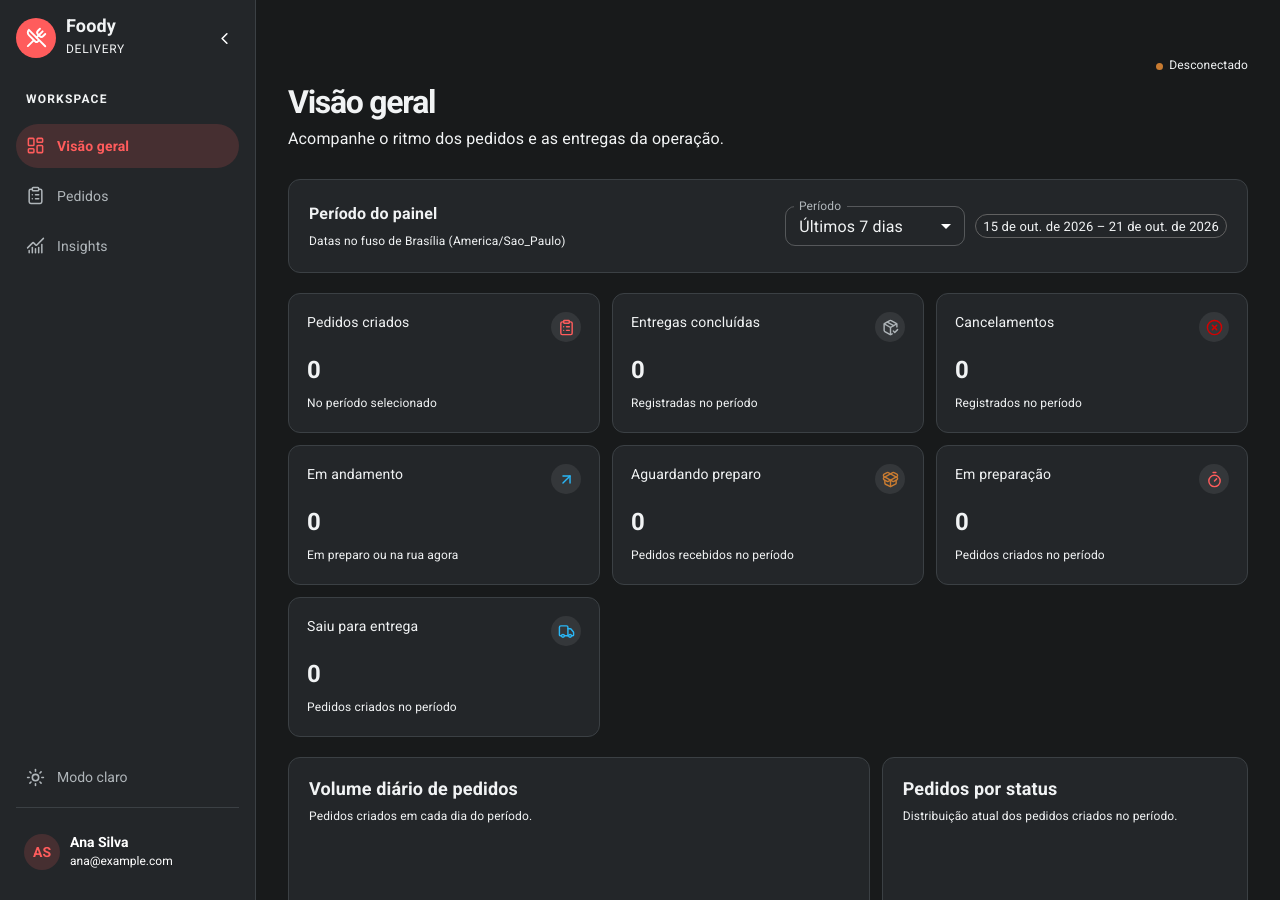
Test case: autenticação e rotas › redireciona usuários autenticados para fora das rotas públicas
Expected: the heading "Visão geral" is shown, [288,83,435,121]
Expected: the text "Ana Silva" is shown, [70,832,128,852]
What coordinates should you click on to do the following:
click the button with aria-label "Abrir menu do usuário"
I would click on:
 (128, 852)
Its box is [16,820,239,884].
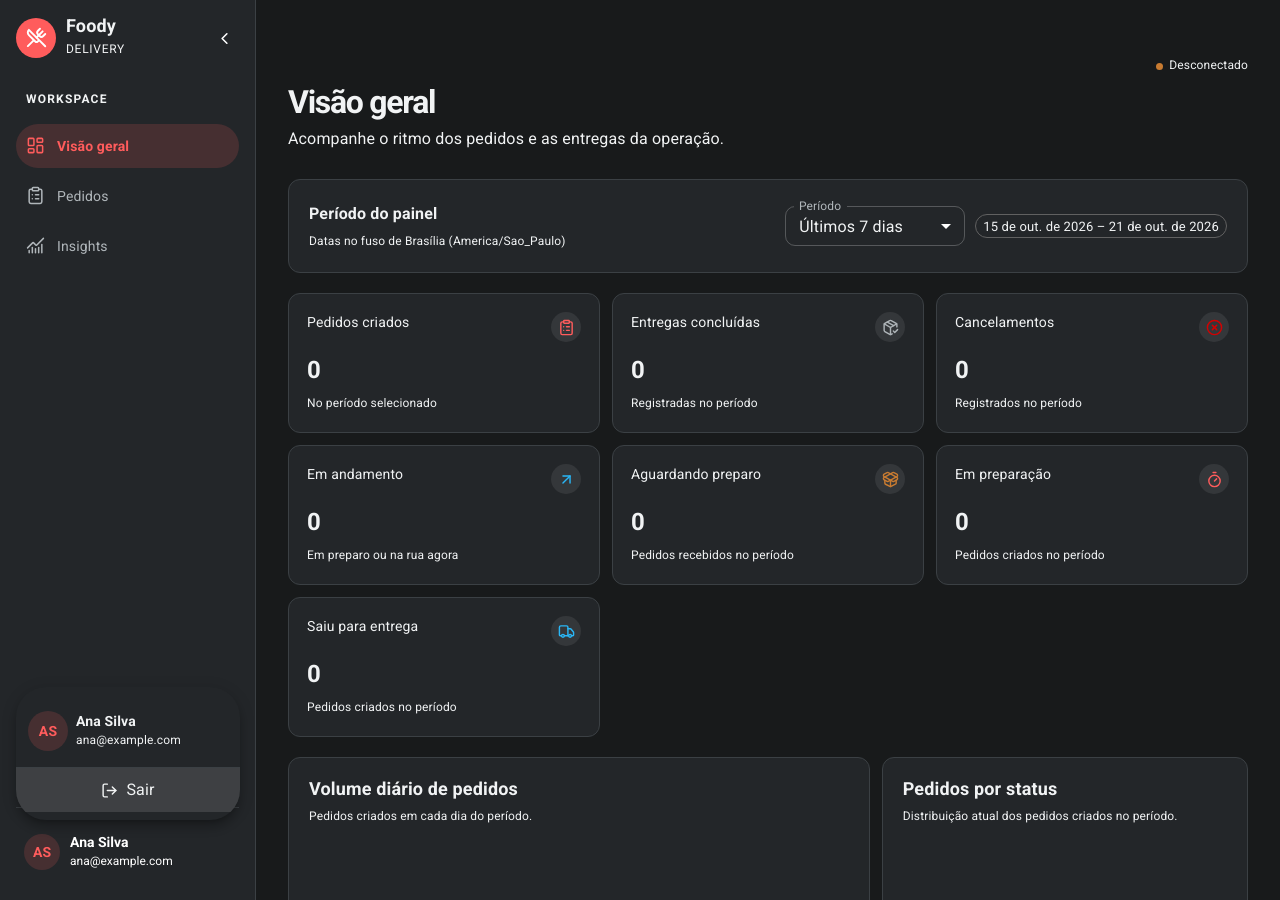
Expected: the text "Ana Silva" is shown 2 times, [70,832,128,852]; [76,711,136,731]
Expected: the text "ana@example.com" is shown 2 times, [70,852,173,872]; [76,731,181,751]
